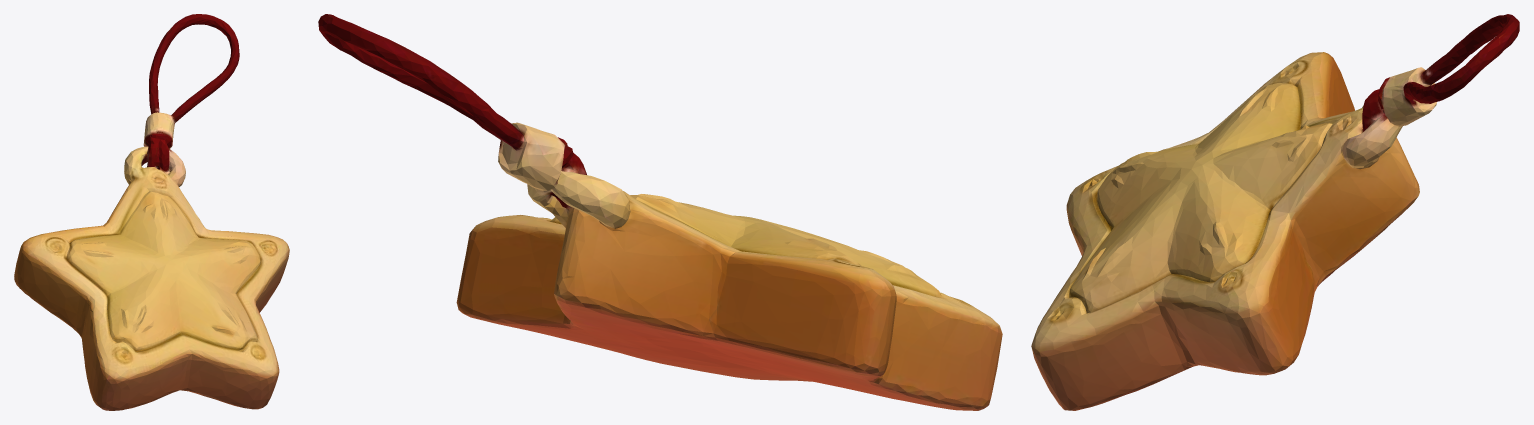
File: revive_star.glb
3 views of the same model, side by side, from view 1: azimuth 30°, elevation 25°; view 2: azimuth 150°, elevation 25°; view 3: azimuth 270°, elevation 25° (orthographic). The views are drawn at different scales.
Visible parts, largest first — view 1: tmpbzkhxv5g.ply; view 2: tmpbzkhxv5g.ply; view 3: tmpbzkhxv5g.ply.
Boxes of the visible parts, x1,y1,x2,y2 form: tmpbzkhxv5g.ply: [14, 14, 289, 410]; tmpbzkhxv5g.ply: [318, 14, 1002, 410]; tmpbzkhxv5g.ply: [1031, 14, 1519, 410].
Size of the model in its own units: 1.99 by 1.99 by 1.99.
1 material, 1 textured.
